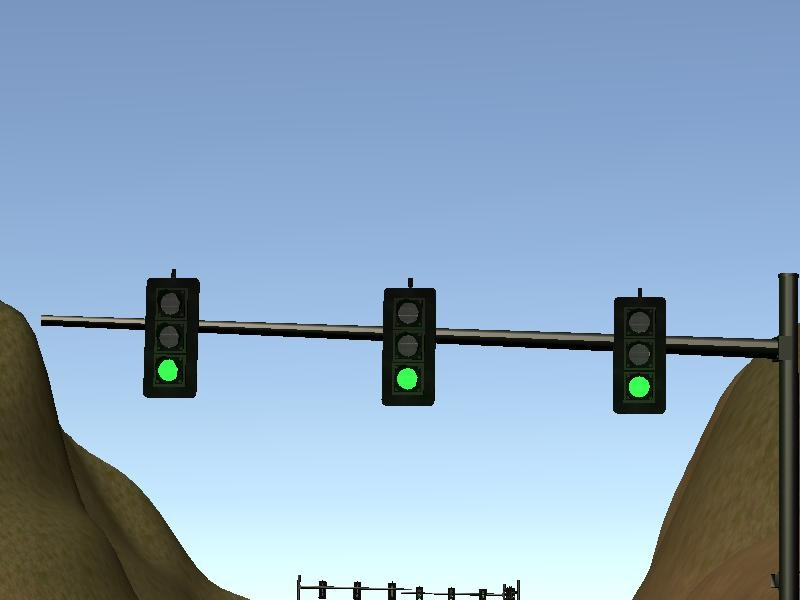GREEN: (607, 295, 671, 418), (140, 274, 202, 400), (378, 284, 437, 411)
